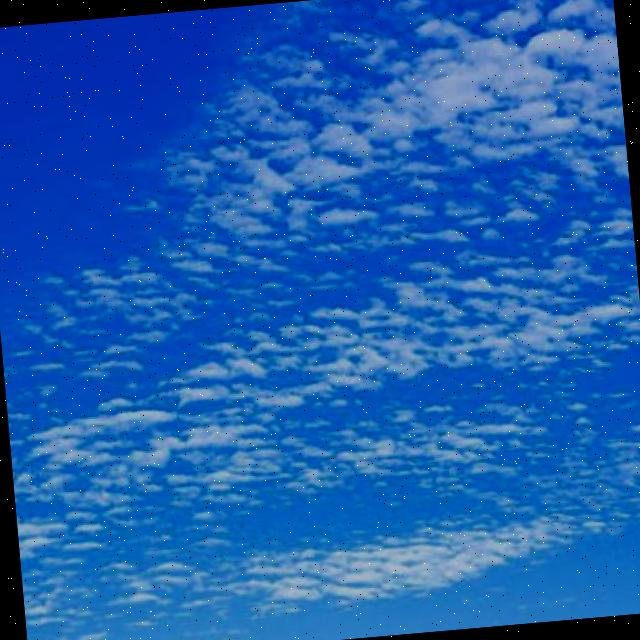Cc: (1, 1, 640, 629)
